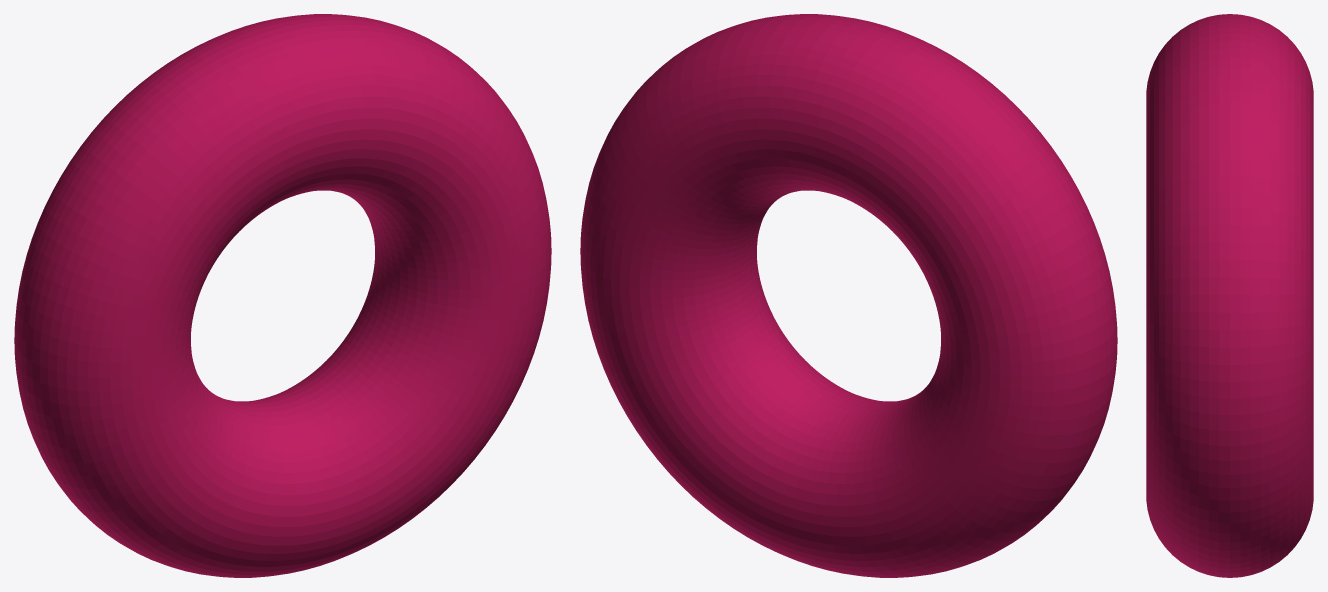
The picture shows the model from 3 angles, left to right: view 1: azimuth 30°, elevation 25°; view 2: azimuth 150°, elevation 25°; view 3: azimuth 270°, elevation 25°; orthographic projection. The views are drawn at different scales.
Visible parts, largest first — view 1: world; view 2: world; view 3: world.
Boxes of the visible parts, x1,y1,x2,y2 form: world: (14, 14, 551, 577); world: (580, 14, 1117, 577); world: (1146, 14, 1313, 577).
Size of the model in its own units: 23.73 by 23.73 by 7.05.
